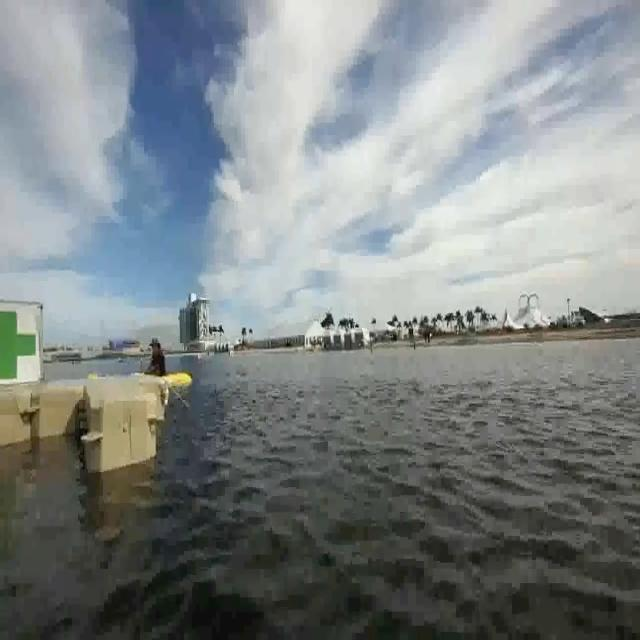blue-cross: (0, 303, 40, 385)
